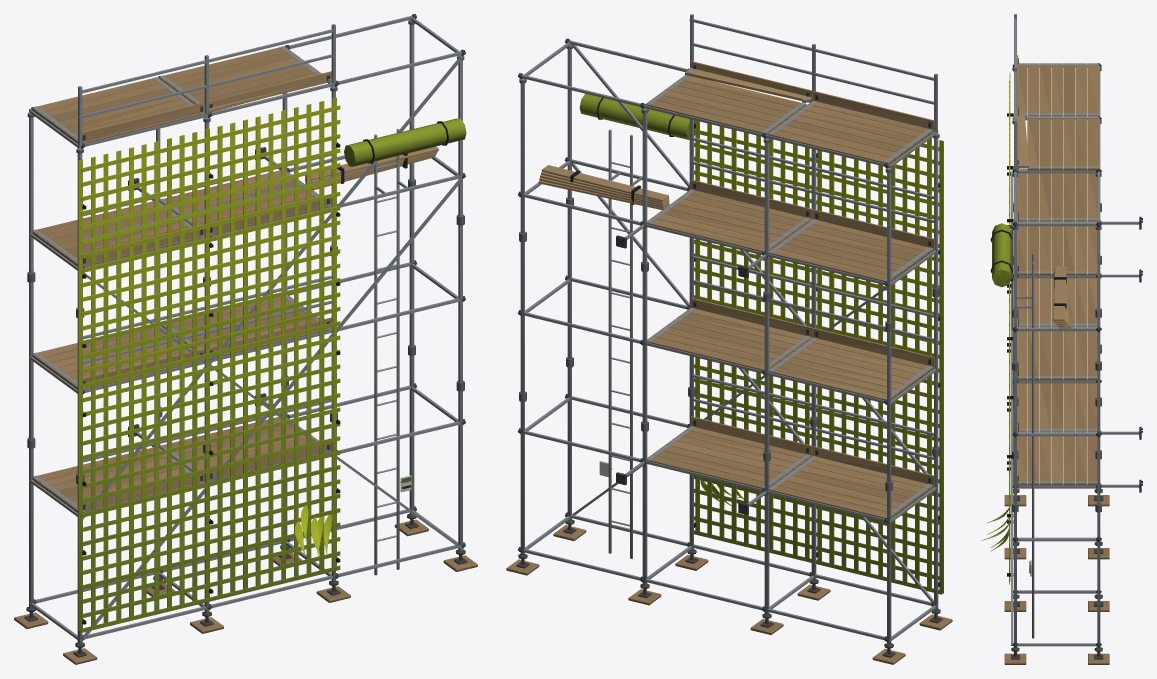
The model's file is scaffold-facade.glb.
The picture shows the model from 3 angles, left to right: view 1: azimuth 30°, elevation 25°; view 2: azimuth 150°, elevation 25°; view 3: azimuth 270°, elevation 25°; orthographic projection. The views are drawn at different scales.
Parts seen in each view (by area): view 1: scaffold_facade; view 2: scaffold_facade; view 3: scaffold_facade.
Boxes of the visible parts, left/top/right/bottom form: scaffold_facade: left=14, top=14, right=477, bottom=664; scaffold_facade: left=506, top=14, right=952, bottom=664; scaffold_facade: left=981, top=14, right=1142, bottom=664.
Size of the model in its own units: 7.62 by 10.32 by 3.1.
